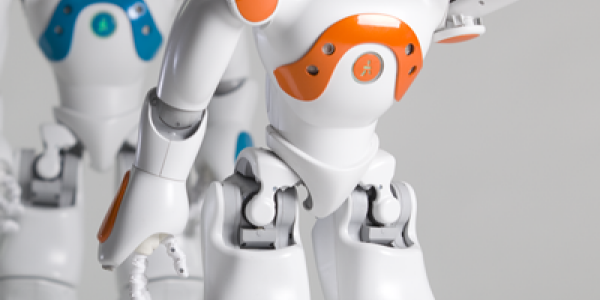nao: (91, 1, 534, 298), (1, 1, 259, 300)
